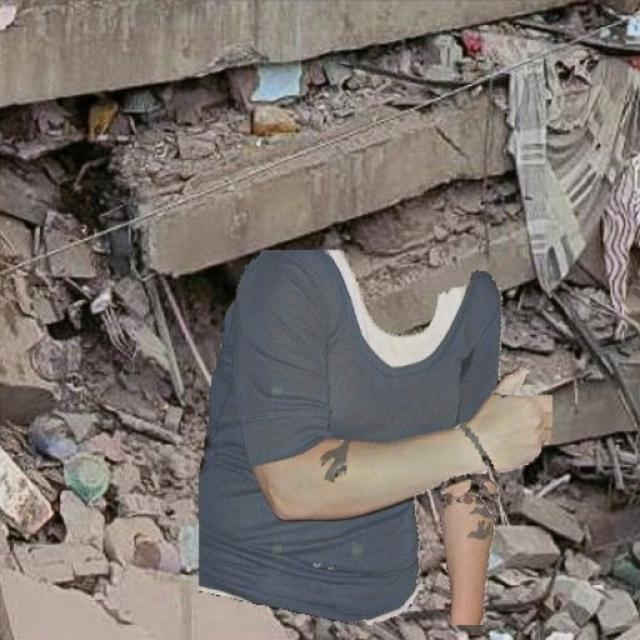Person in Rubble: (198, 250, 552, 624)
